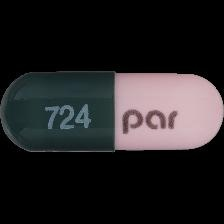68084-284: (0, 0, 224, 224)
